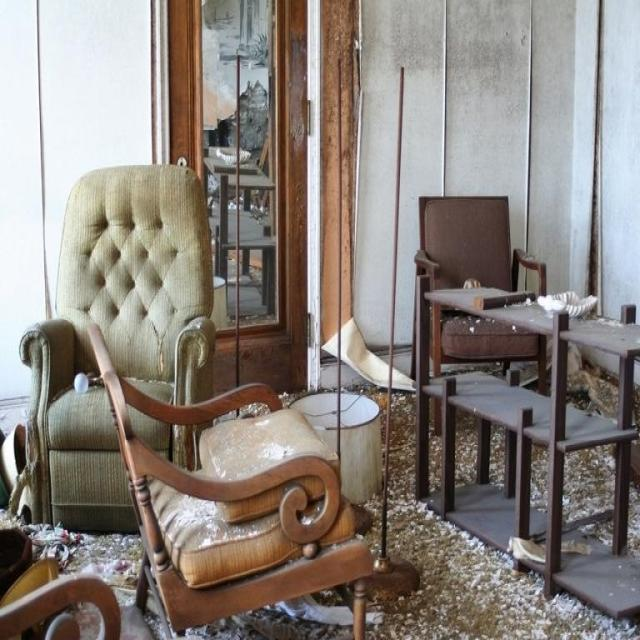Metal: (370, 54, 421, 600), (214, 46, 258, 376), (326, 56, 356, 461)
